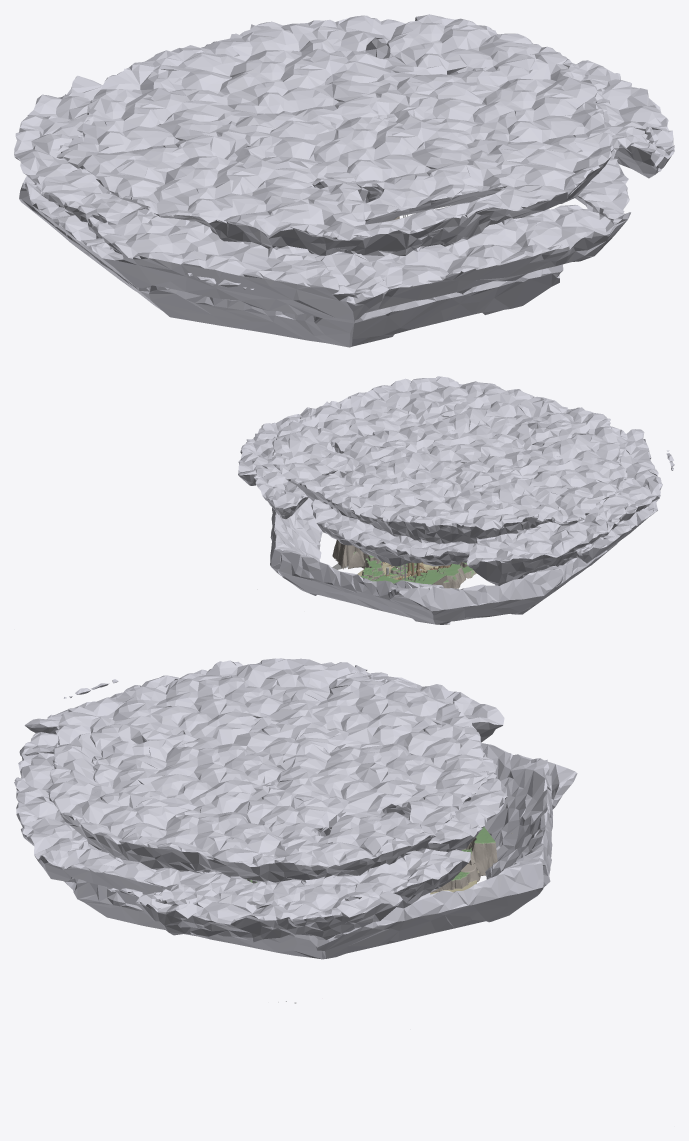
The model's file is BstBaked.glb.
3 renders of one model, top to bottom at view 1: azimuth 30°, elevation 25°; view 2: azimuth 150°, elevation 25°; view 3: azimuth 270°, elevation 25°, orthographic. The views are drawn at different scales.
Parts seen in each view (by area): view 1: BstBaked_cloud; view 2: BstBaked_cloud, BstBaked_terrain; view 3: BstBaked_cloud, BstBaked_terrain.
Boxes of the visible parts, x1,y1,x2,y2 form: BstBaked_cloud: (14,14,674,347); BstBaked_cloud: (238,376,674,624); BstBaked_terrain: (332,540,476,588); BstBaked_cloud: (14,658,577,959); BstBaked_terrain: (247,827,497,894).
Size of the model in its own units: 1439 by 397 by 1309.
